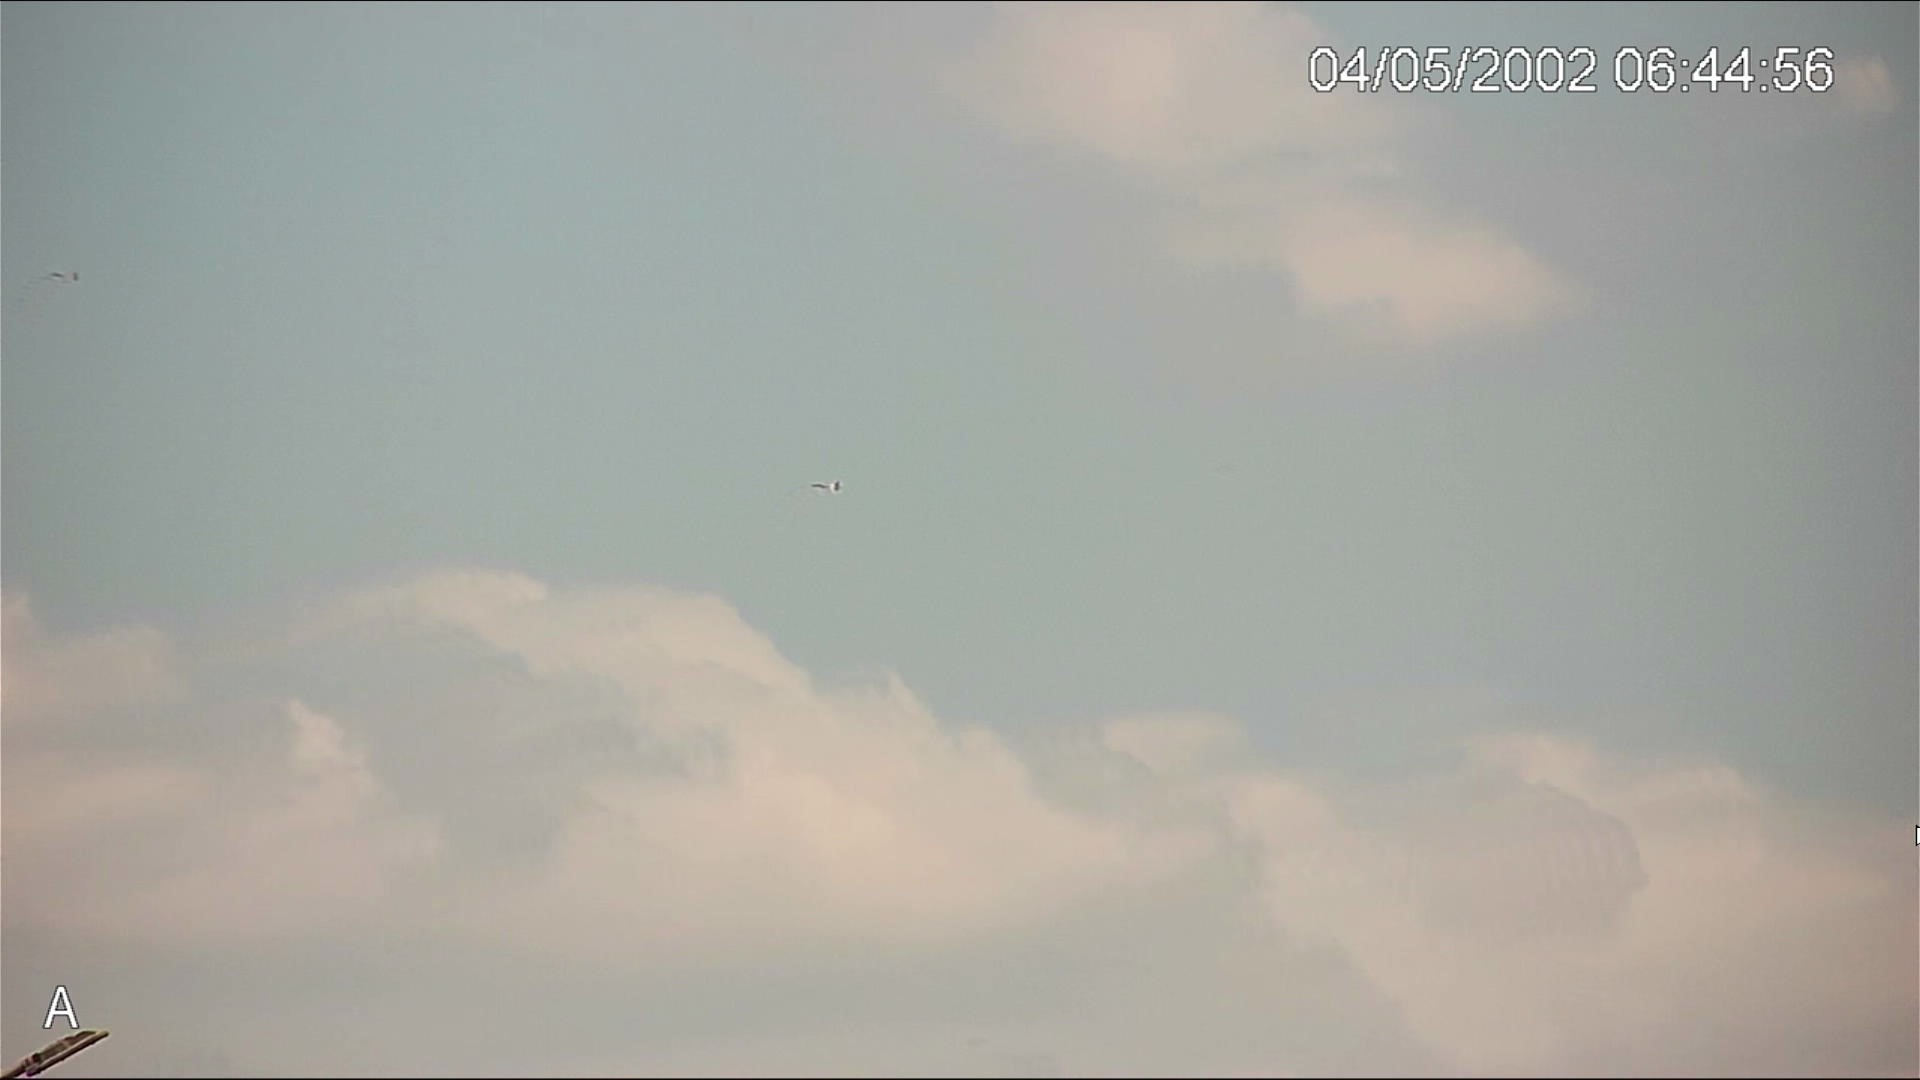SU_30: (811, 479, 847, 496), (49, 268, 80, 281)
